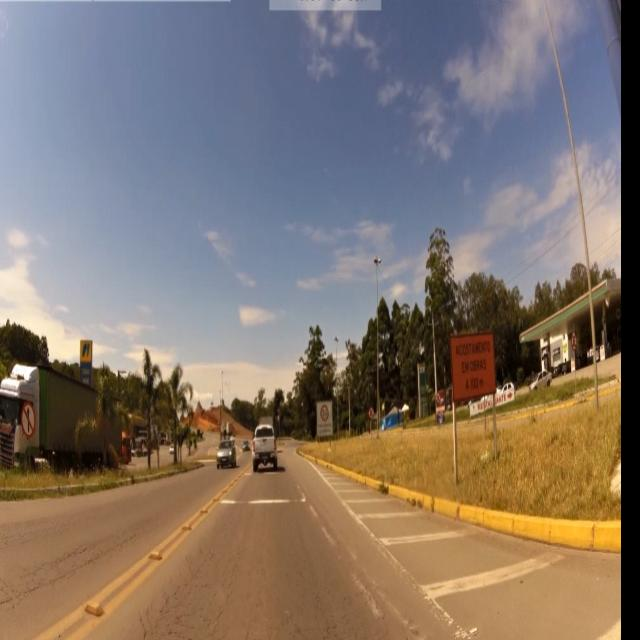ESP-20: (450, 334, 498, 400)
